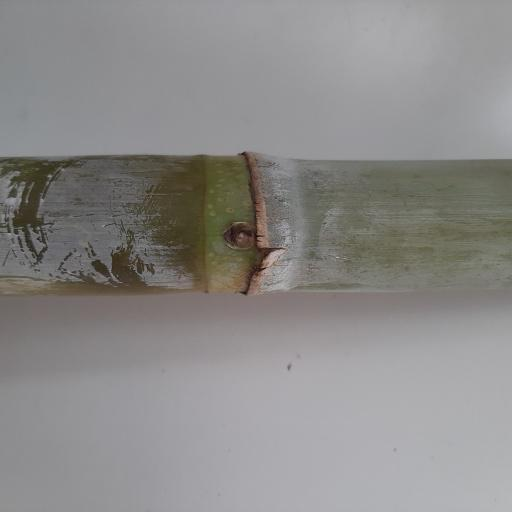Bud: (223, 221, 256, 250)
